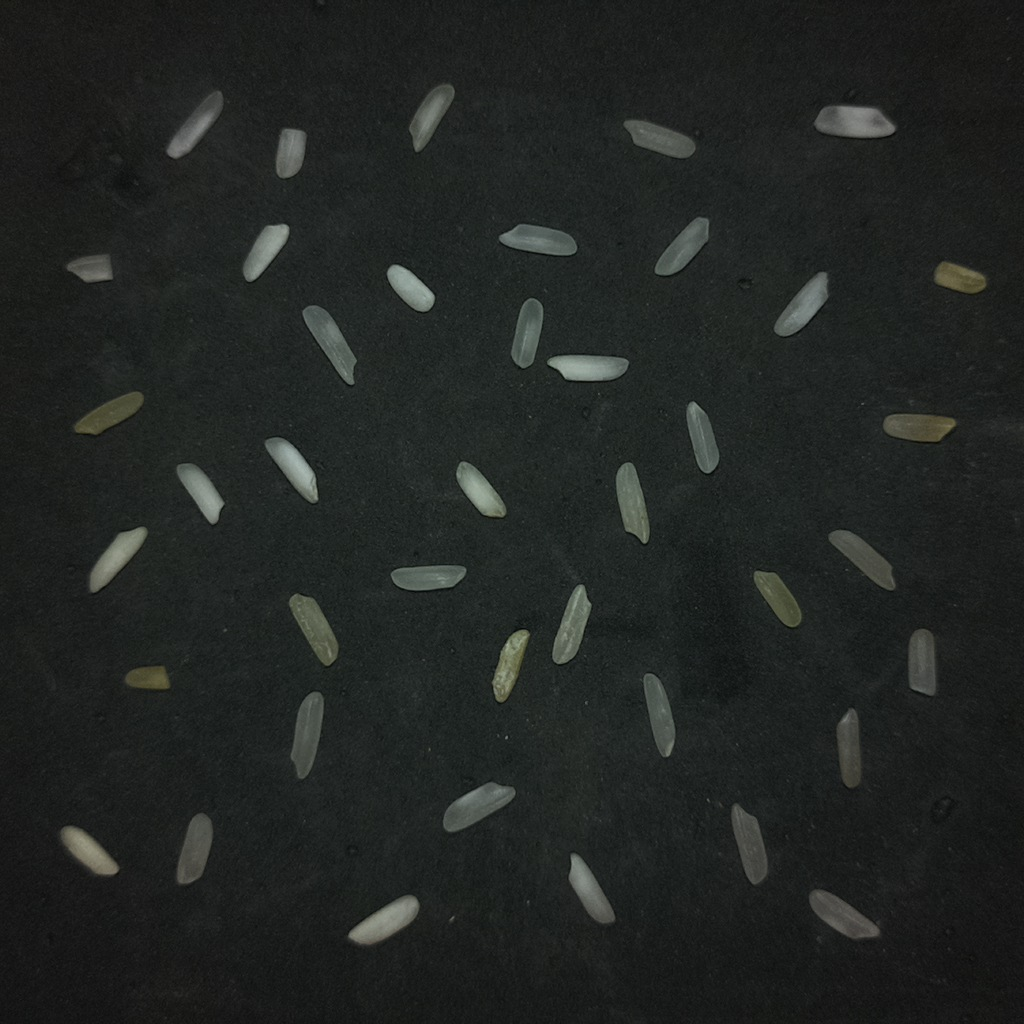broken: (442, 782, 515, 832), (289, 593, 338, 665), (774, 272, 828, 336), (655, 217, 709, 276), (409, 83, 454, 152), (623, 119, 695, 158), (814, 105, 895, 138), (616, 462, 649, 543), (176, 812, 212, 885), (499, 224, 576, 255), (687, 401, 719, 473), (511, 297, 543, 368), (390, 565, 466, 591), (908, 629, 936, 695), (275, 128, 306, 178), (66, 254, 113, 282), (124, 665, 169, 690)
chalky: (90, 527, 147, 592), (347, 895, 419, 945), (264, 437, 317, 502), (176, 463, 224, 524), (61, 825, 118, 876), (456, 462, 506, 517), (243, 224, 289, 282), (387, 264, 434, 312), (547, 354, 628, 381)
discolored: (73, 391, 143, 435), (753, 570, 801, 627), (492, 629, 529, 702), (882, 413, 956, 442), (933, 261, 986, 293)
red: (568, 853, 614, 924)
whole: (302, 305, 356, 385), (828, 530, 895, 590), (166, 91, 224, 159), (809, 889, 879, 939), (552, 584, 591, 664), (731, 803, 767, 884), (290, 691, 323, 779), (643, 673, 675, 757), (836, 708, 861, 788)
